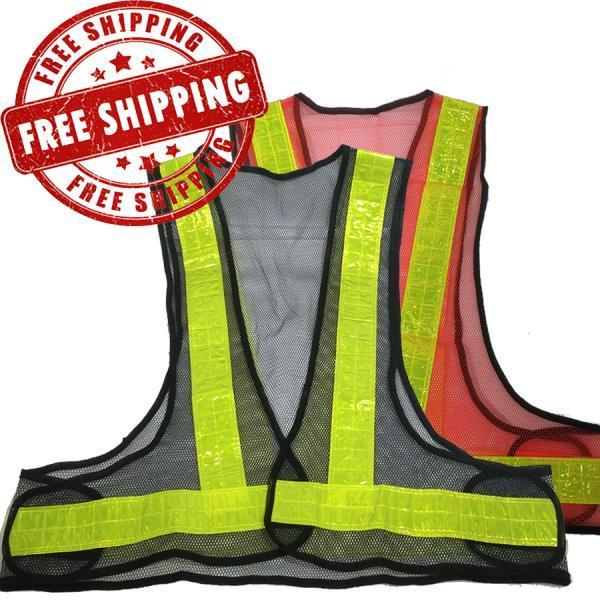vest: (1, 138, 569, 594), (230, 95, 599, 535)
